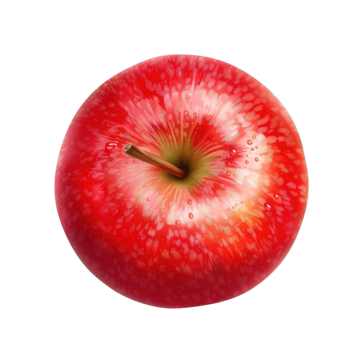apple/: (42, 44, 336, 322)
